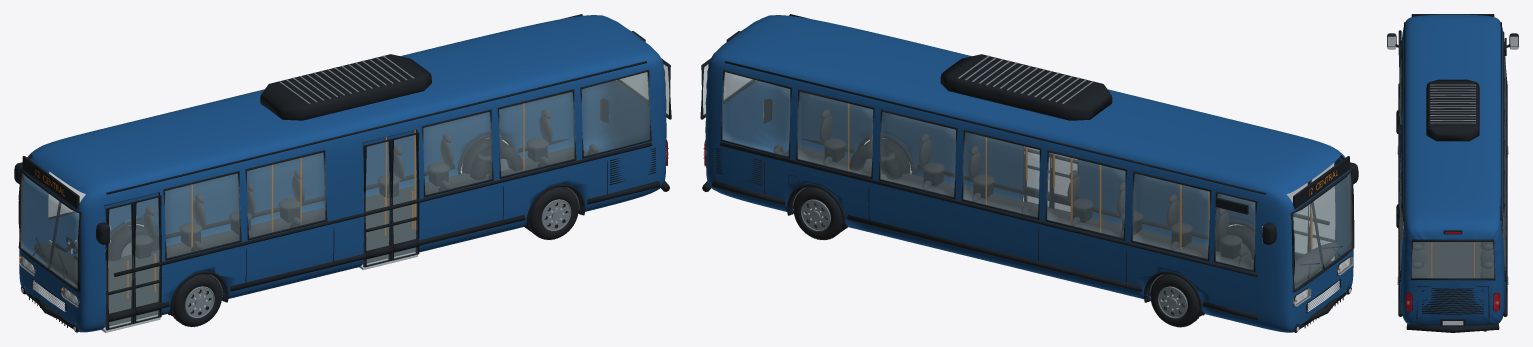
File: city-bus.glb
The picture shows the model from 3 angles, left to right: view 1: azimuth 30°, elevation 25°; view 2: azimuth 150°, elevation 25°; view 3: azimuth 270°, elevation 25°; orthographic projection. The views are drawn at different scales.
Parts seen in each view (by area): view 1: City bus hollow 12-station low-floor monocoque, Large bus side passenger glass curved transparent pane -1.00 (×4), Low-floor passenger aisle, Formed rooftop HVAC enclosure, Large bus side passenger glass curved transparent pane -1, Large curved bus driver windscreen curved laminated transpar, Transparent entry door leaf.001, Transparent entry door leaf.002, Transparent entry door leaf.003, Transparent entry door leaf, Continuous black glazing lower rail, Bus roof gutter (+22 smaller); view 2: City bus hollow 12-station low-floor monocoque, Formed rooftop HVAC enclosure, Large bus side passenger glass curved transparent pane 1.002, Large bus side passenger glass curved transparent pane 1.001, Large bus side passenger glass curved transparent pane 1.003, Large bus side passenger glass curved transparent pane 1.005, Large bus side passenger glass curved transparent pane 1.004, Large bus side passenger glass curved transparent pane 1.006, Large curved bus driver windscreen curved laminated transpar, Low-floor passenger aisle, Large bus side passenger glass curved transparent pane 1, Continuous black glazing lower rail.001 (+23 smaller); view 3: City bus hollow 12-station low-floor monocoque, Formed rooftop HVAC enclosure, Rear bus emergency transparent window, Low-floor passenger aisle, Rear emergency glazing gasket, Rear bus impact bumper, Vertical corner wrap tail lamp continuous formed optical len (×2), Bus roof gutter, Bus roof gutter.001, Large bus side passenger glass extruded EPDM surround 1.006, Large bus side passenger glass extruded EPDM surround -1.004, Bus passenger row 7 contoured backrest (+24 smaller).
Part boxes in pixels (bbox=[...]): City bus hollow 12-station low-floor monocoque: bbox=[19, 15, 666, 332]; Large bus side passenger glass curved transparent pane -1.00 (×4): bbox=[247, 72, 650, 237]; Low-floor passenger aisle: bbox=[65, 146, 587, 321]; Formed rooftop HVAC enclosure: bbox=[260, 54, 431, 120]; Large bus side passenger glass curved transparent pane -1: bbox=[164, 173, 240, 257]; Large curved bus driver windscreen curved laminated transpar: bbox=[20, 173, 79, 288]; Transparent entry door leaf.001: bbox=[135, 198, 159, 321]; Transparent entry door leaf.002: bbox=[365, 141, 389, 265]; Transparent entry door leaf.003: bbox=[393, 135, 416, 258]; Transparent entry door leaf: bbox=[108, 204, 132, 327]; Continuous black glazing lower rail: bbox=[113, 142, 652, 276]; Bus roof gutter: bbox=[106, 61, 646, 194]; City bus hollow 12-station low-floor monocoque: bbox=[705, 15, 1353, 332]; Formed rooftop HVAC enclosure: bbox=[940, 54, 1112, 120]; Large bus side passenger glass curved transparent pane 1.002: bbox=[1046, 152, 1125, 238]; Large bus side passenger glass curved transparent pane 1.001: bbox=[1132, 173, 1209, 258]; Large bus side passenger glass curved transparent pane 1.003: bbox=[962, 132, 1039, 217]; Large bus side passenger glass curved transparent pane 1.005: bbox=[797, 91, 873, 176]; Large bus side passenger glass curved transparent pane 1.004: bbox=[879, 112, 955, 196]; Large bus side passenger glass curved transparent pane 1.006: bbox=[721, 72, 790, 156]; Large curved bus driver windscreen curved laminated transpar: bbox=[1293, 172, 1351, 289]; Low-floor passenger aisle: bbox=[785, 147, 1307, 295]; Large bus side passenger glass curved transparent pane 1: bbox=[1215, 193, 1255, 269]; Continuous black glazing lower rail.001: bbox=[720, 142, 1257, 277]; City bus hollow 12-station low-floor monocoque: bbox=[1400, 14, 1505, 327]; Formed rooftop HVAC enclosure: bbox=[1426, 79, 1479, 141]; Rear bus emergency transparent window: bbox=[1411, 242, 1494, 278]; Low-floor passenger aisle: bbox=[1423, 242, 1482, 278]; Rear emergency glazing gasket: bbox=[1410, 239, 1495, 280]; Rear bus impact bumper: bbox=[1406, 324, 1499, 332]; Vertical corner wrap tail lamp continuous formed optical len (×2): bbox=[1406, 293, 1499, 311]; Bus roof gutter: bbox=[1404, 22, 1405, 220]; Bus roof gutter.001: bbox=[1500, 22, 1501, 220]; Large bus side passenger glass extruded EPDM surround 1.006: bbox=[1501, 201, 1507, 278]; Large bus side passenger glass extruded EPDM surround -1.004: bbox=[1398, 201, 1404, 278]; Bus passenger row 7 contoured backrest: bbox=[1411, 249, 1425, 265].
Size of the model in its own units: 12.2 by 3.43 by 3.08.
Materials: 10 (10 with a texture image).
